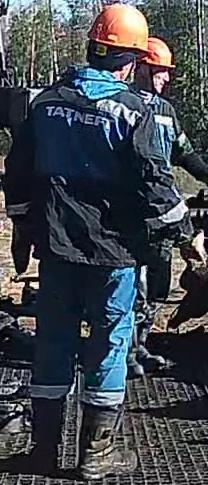gloves: (5, 213, 40, 276), (174, 224, 208, 283)
helmet: (86, 3, 149, 53), (139, 36, 175, 68)
vest: (28, 84, 151, 267)
